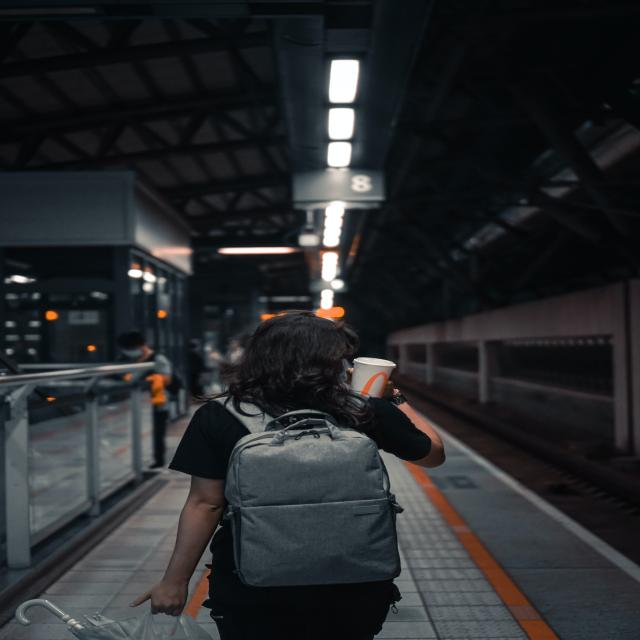backpack: (198, 390, 408, 588)
